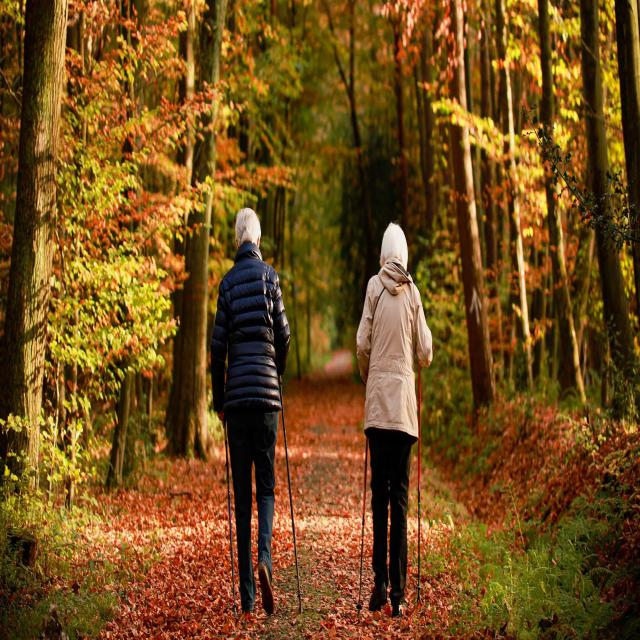Forest: (0, 0, 640, 640)
Militant: (214, 192, 302, 634), (352, 197, 429, 622)
